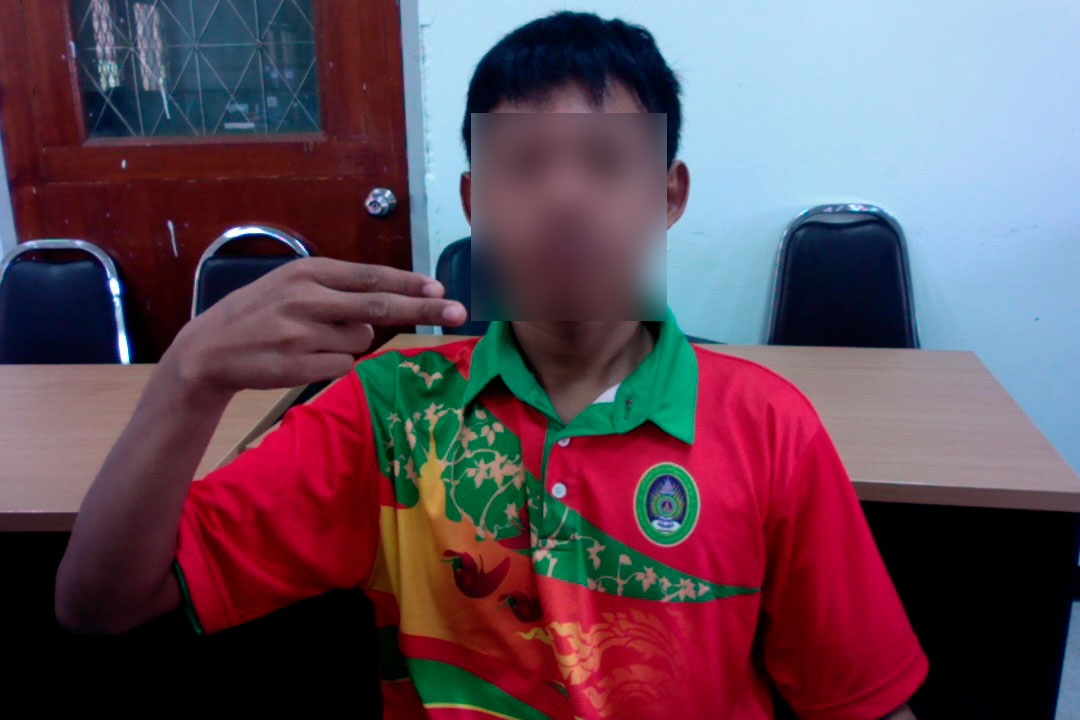hor: (175, 251, 468, 399)
